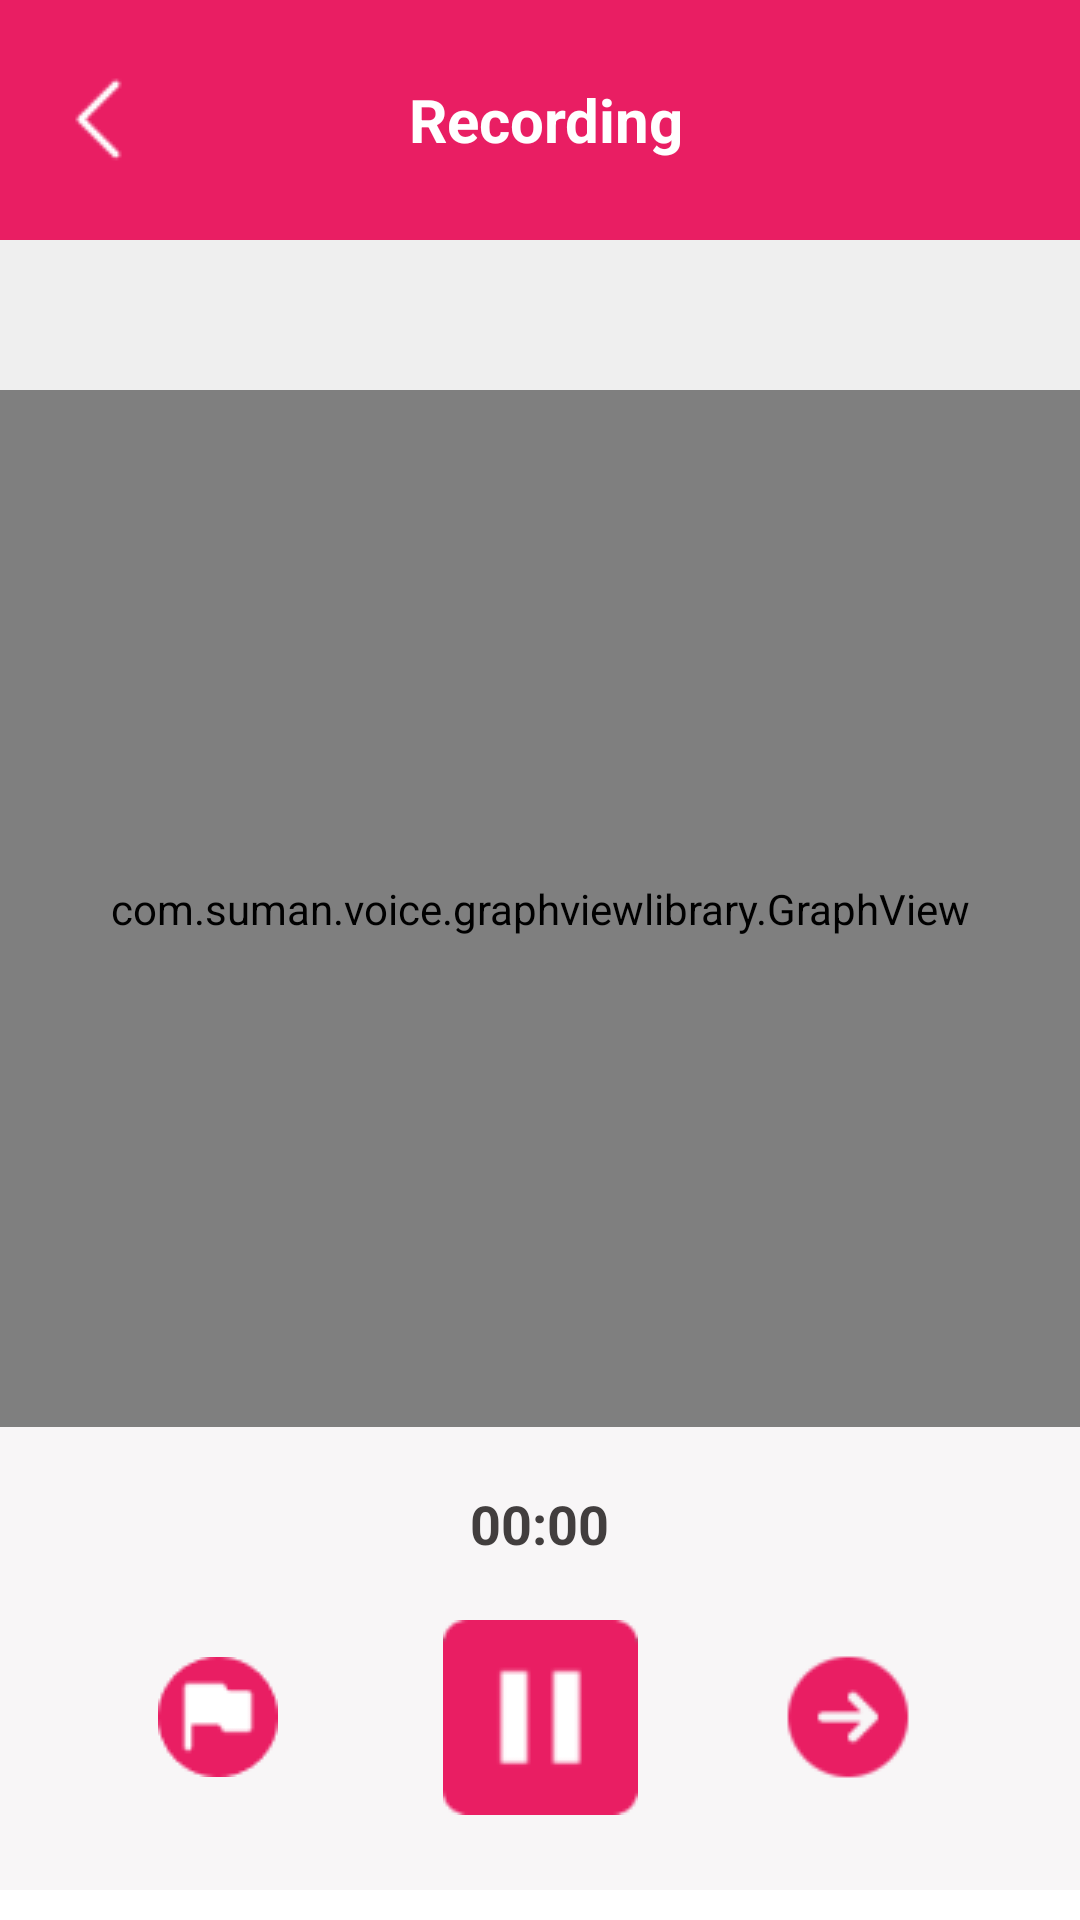

Icons on this 1080 x 1920 Android screen, each with its box as (x1, y1, x2, y2):
back: (75, 79, 122, 159)
mark: (158, 1657, 278, 1777)
pause record: (443, 1620, 638, 1815)
